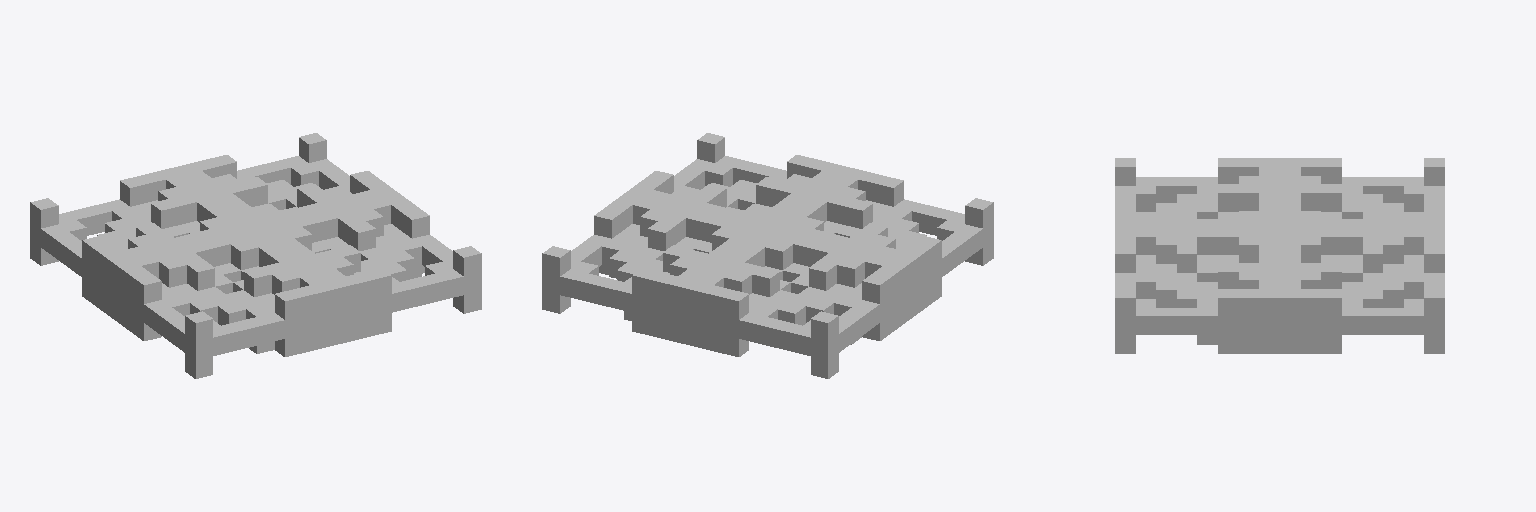
Rendered from VectorPlate.obj.
The picture shows the model from 3 angles: view 1: azimuth 30°, elevation 25°; view 2: azimuth 150°, elevation 25°; view 3: azimuth 270°, elevation 25°; orthographic projection.
Visible parts, largest first — view 1: Vector; view 2: Vector; view 3: Vector.
Part boxes in pixels (bbox=[...]): Vector: bbox=[30, 133, 481, 378]; Vector: bbox=[542, 133, 993, 378]; Vector: bbox=[1115, 158, 1444, 353].
Size of the model in its own units: 1.6 by 0.3 by 1.6.